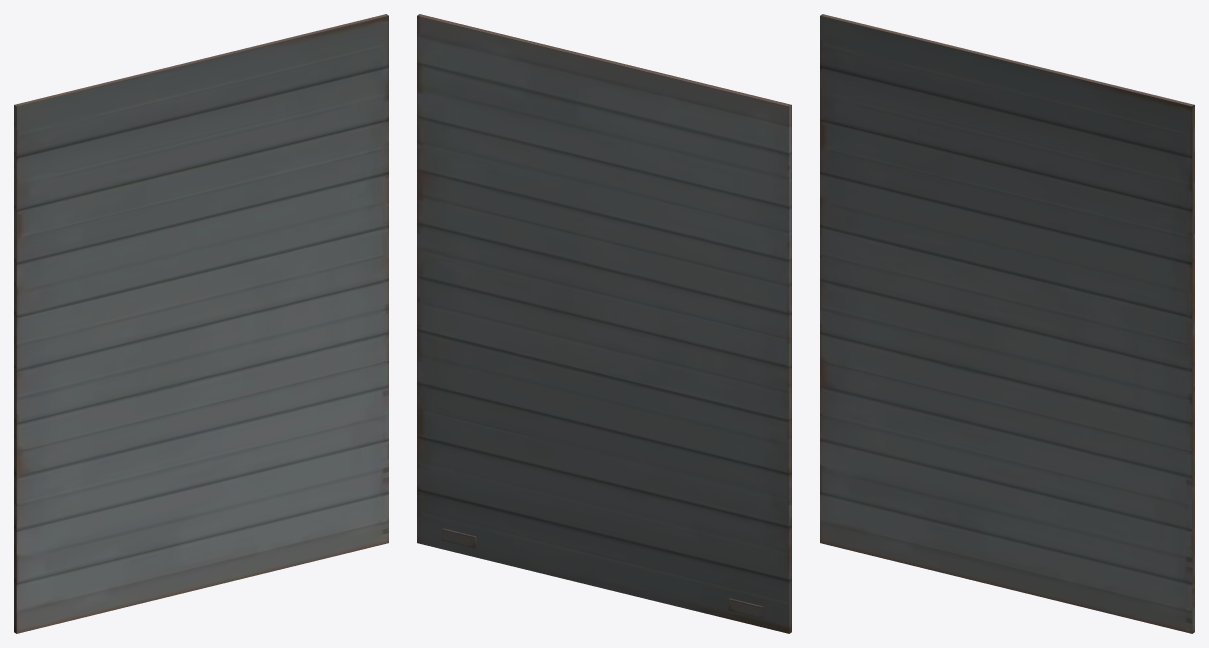
3 views of the same model, side by side, from view 1: azimuth 30°, elevation 25°; view 2: azimuth 150°, elevation 25°; view 3: azimuth 330°, elevation 25° (orthographic).
Parts seen in each view (by area): view 1: body0_model0_lod0_mesh0; view 2: body0_model0_lod0_mesh0; view 3: body0_model0_lod0_mesh0.
Boxes of the visible parts, x1,y1,x2,y2 form: body0_model0_lod0_mesh0: [14, 14, 388, 633]; body0_model0_lod0_mesh0: [417, 14, 791, 633]; body0_model0_lod0_mesh0: [820, 14, 1194, 633].
Size of the model in its own units: 87.5 by 118 by 1.47.
Materials: 1 (1 with a texture image).
